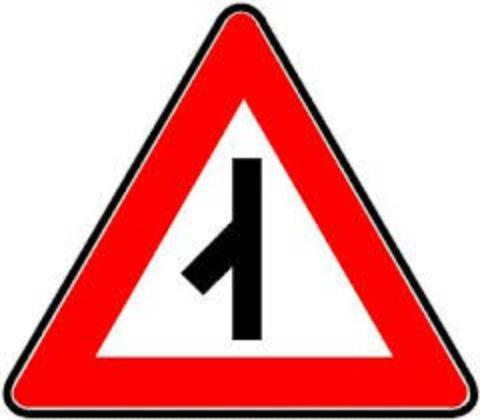fork_road: (0, 0, 479, 418)
